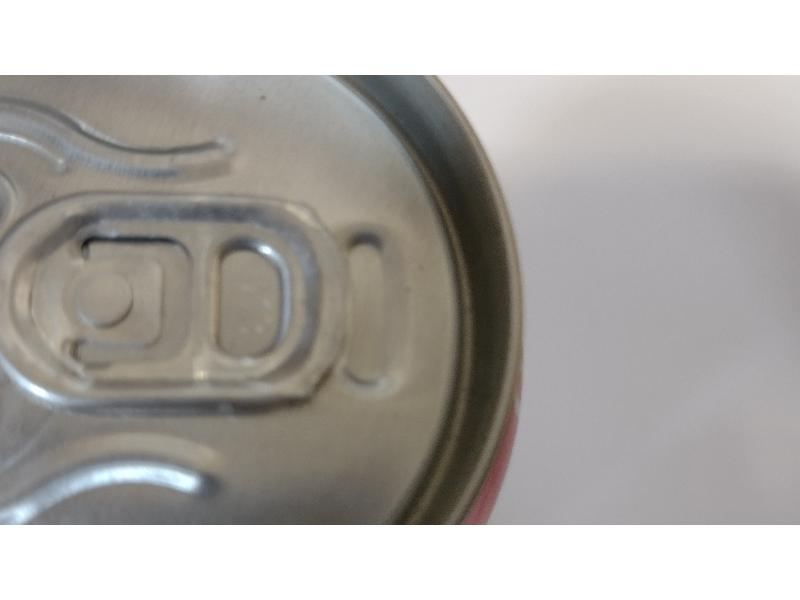can: (0, 76, 521, 524)
